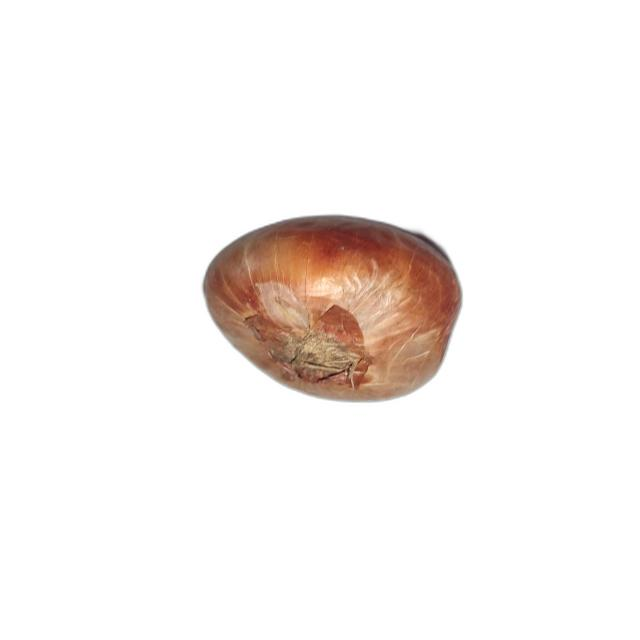onion: (204, 215, 464, 402)
